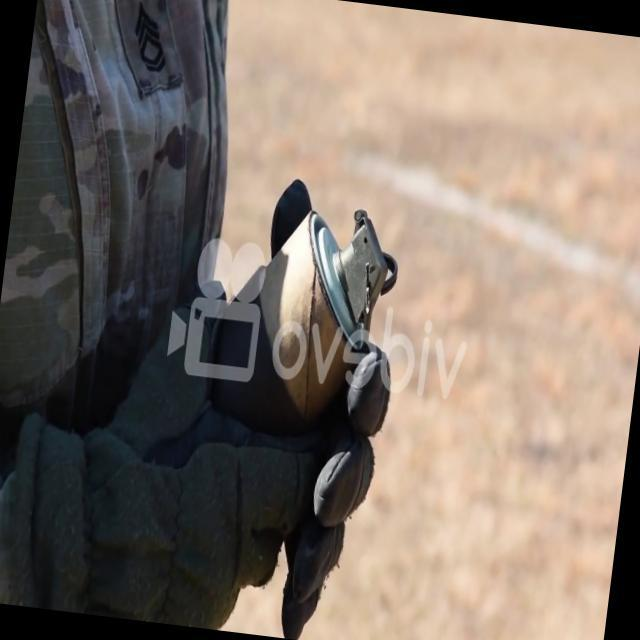grenade: (200, 170, 403, 452)
